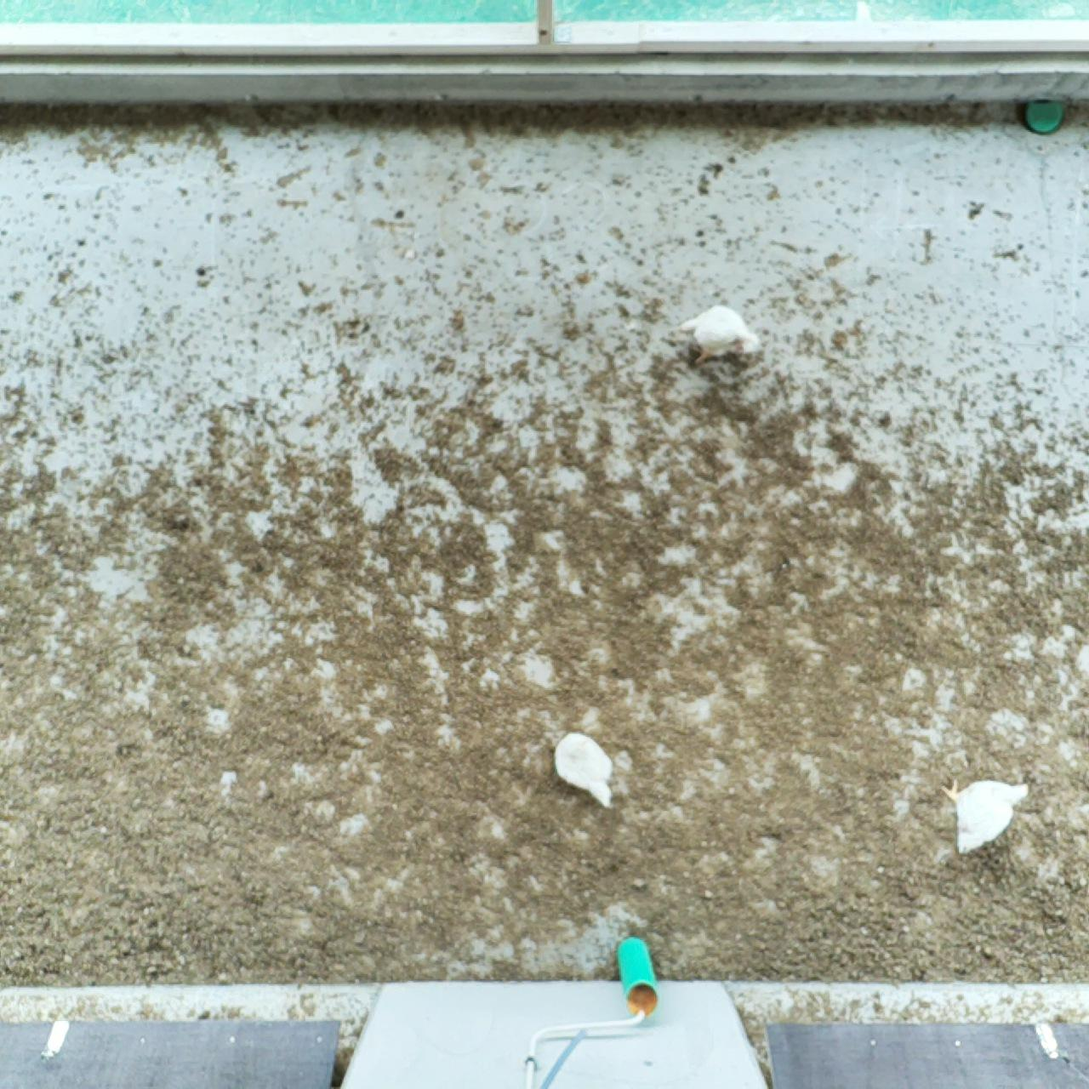chicken: (940, 776, 1034, 855), (676, 301, 764, 366), (551, 730, 617, 811)
